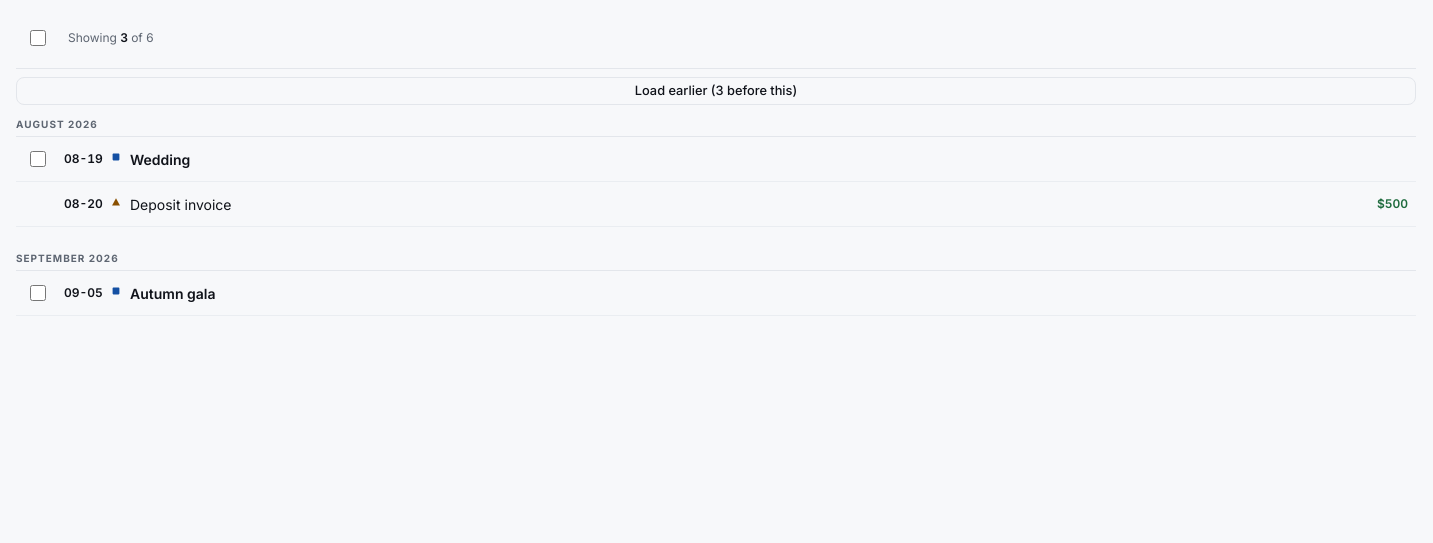
Test: AgendaView — anchoring › offers a way back to today after wandering into history
Click the button "Load earlier (3 before this)": (716, 91) [16,77,1416,105]
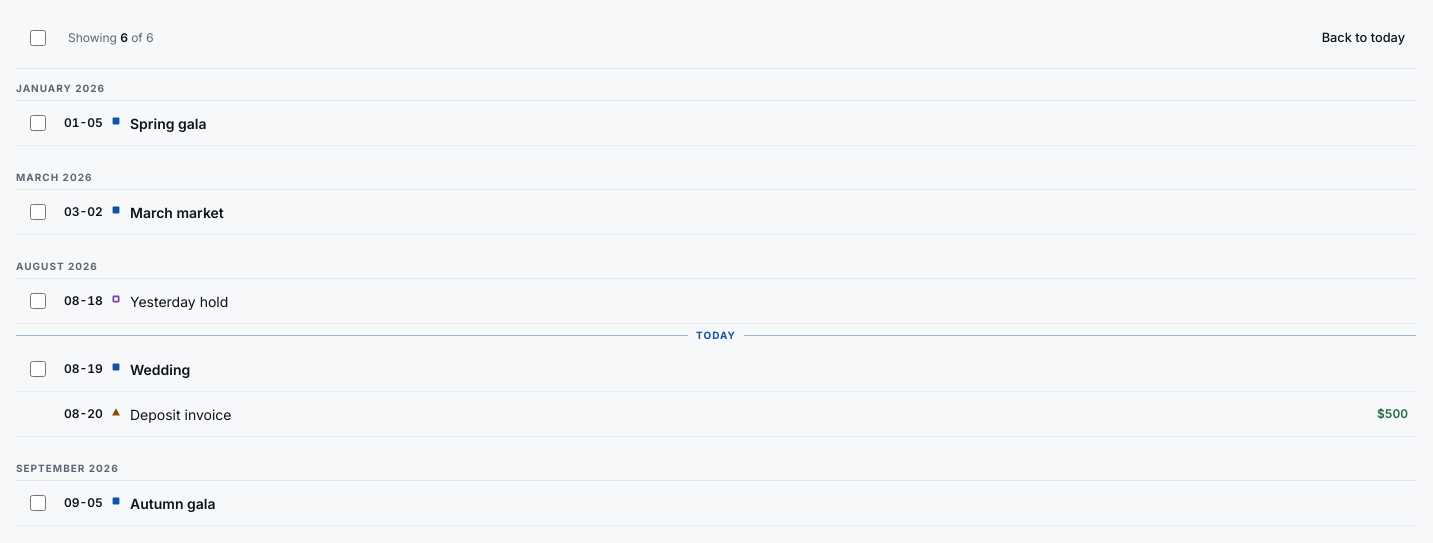
Click the button "Back to today": (1363, 38) [1311,16,1416,60]
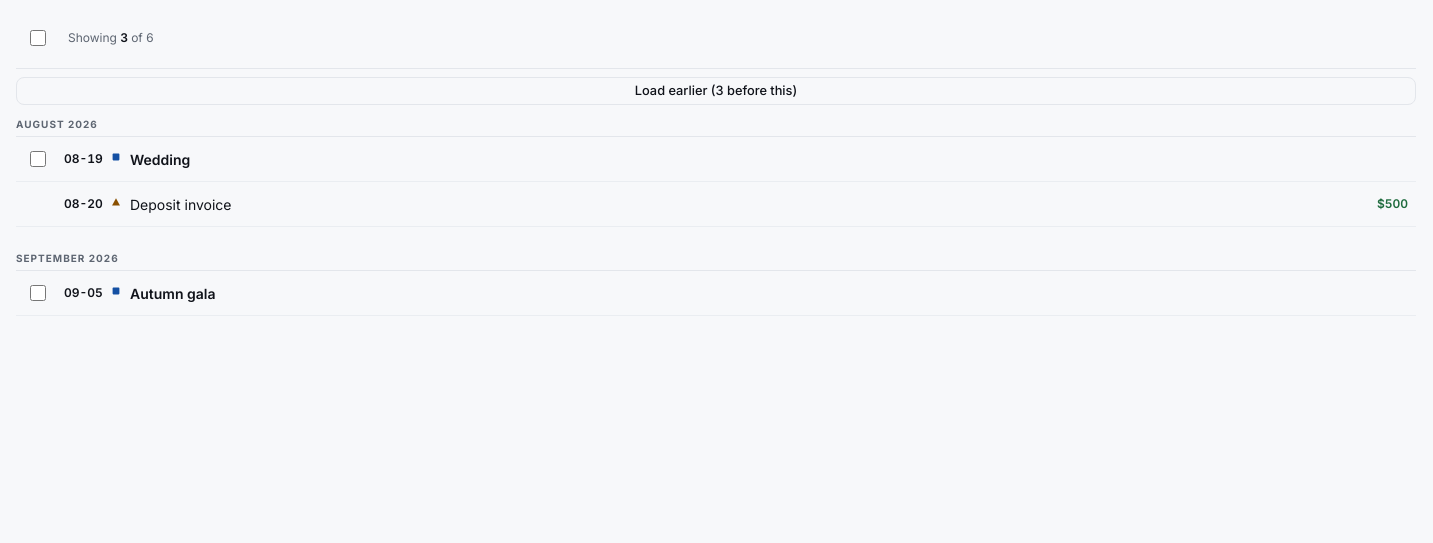
Expected: the link "Wedding" is shown, [130,151,190,168]
Result: the link "Spring gala" is gone
